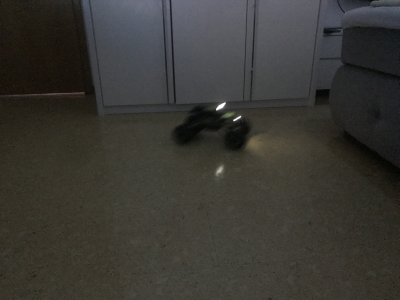remote control car: (170, 97, 253, 151)
